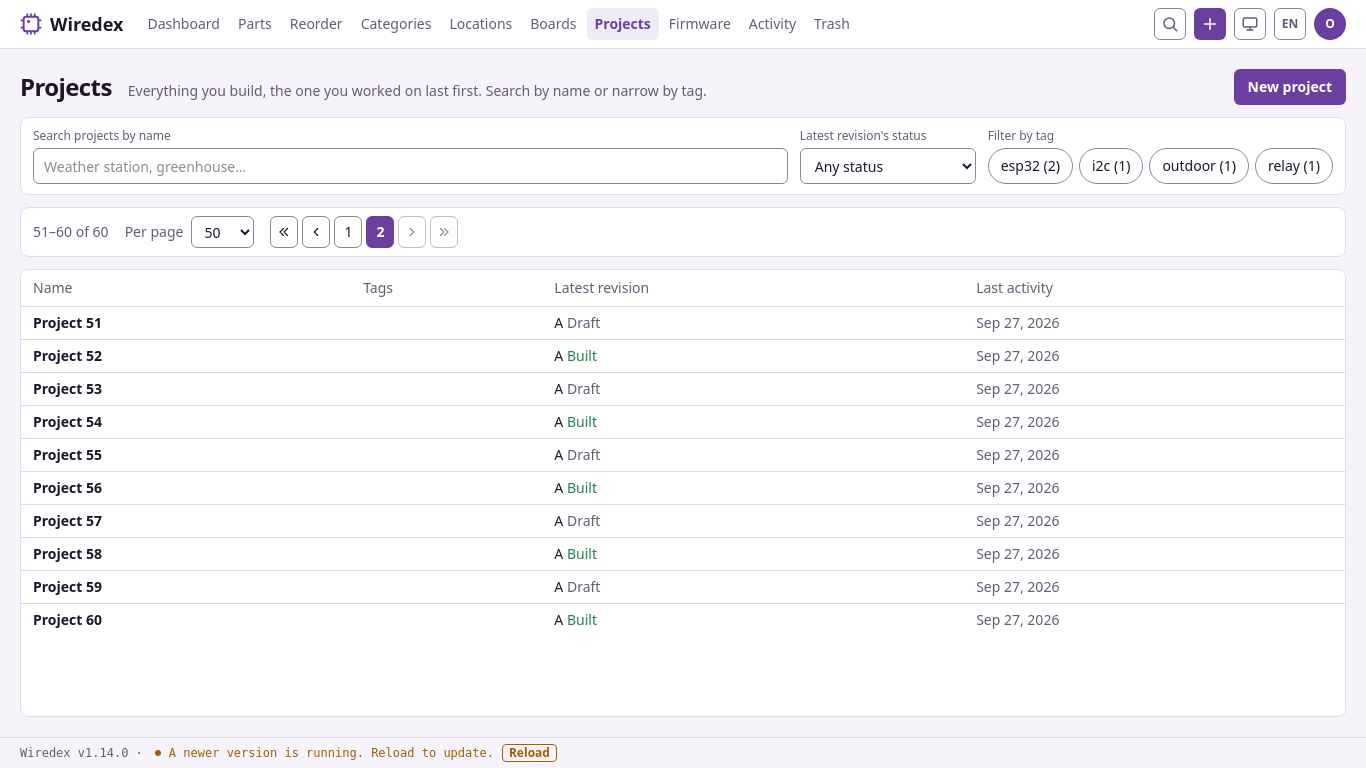
ProjectsPage › in pages › starts again at page 1 for a new search or status, at the size chosen
Type "Pro" into the search field labelled "Search projects by name" at [410, 166], box left=33, top=148, right=788, bottom=184
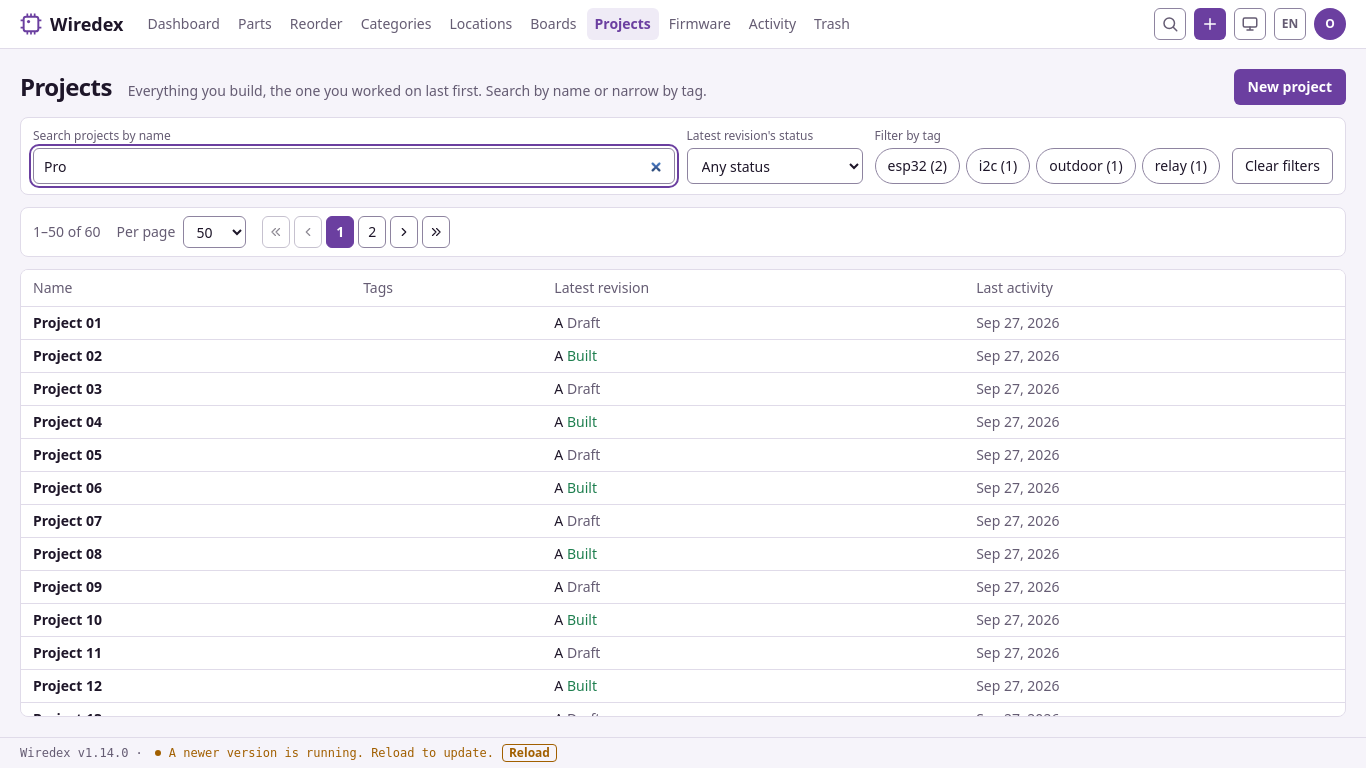
Click the button named "Page 2" at [372, 232], box left=358, top=216, right=386, bottom=248
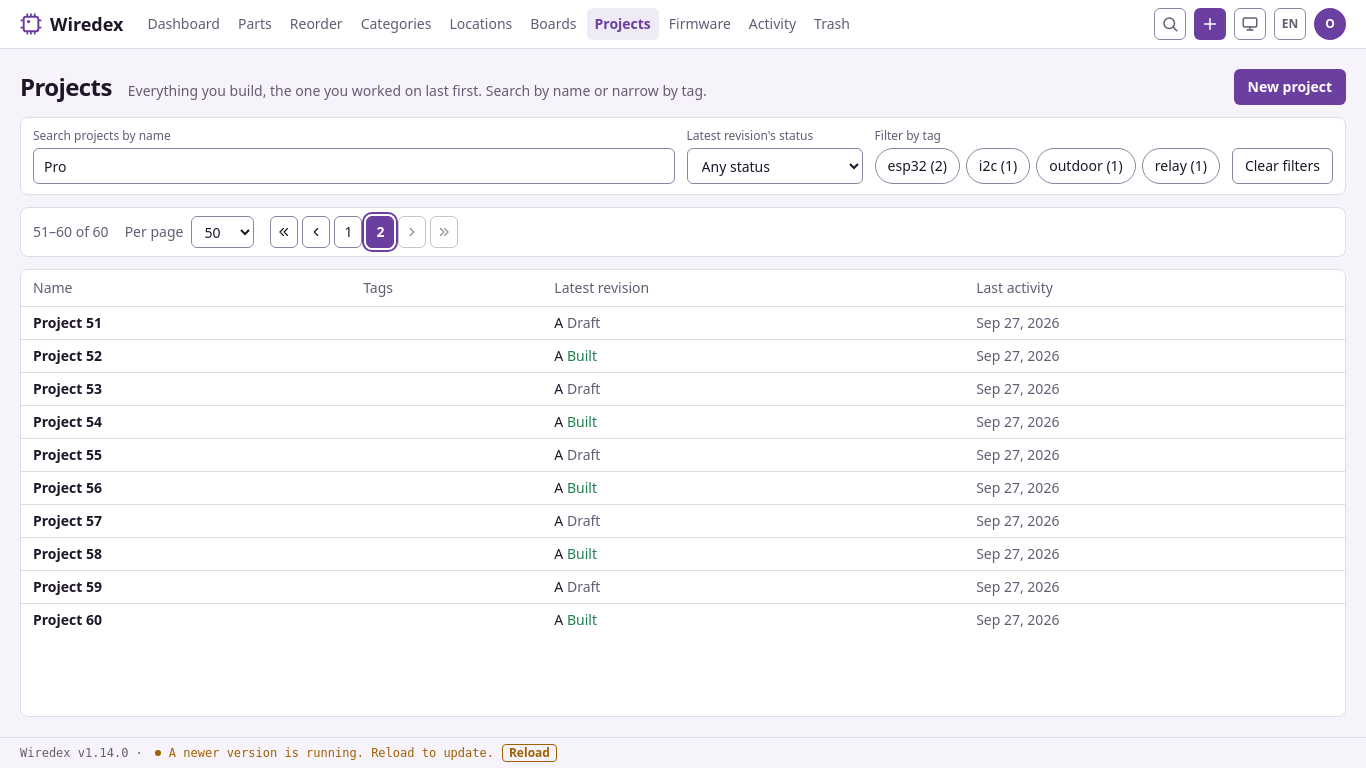
Select "Built" in the dropdown labelled "Latest revision's status" at [775, 166], box left=687, top=148, right=863, bottom=184
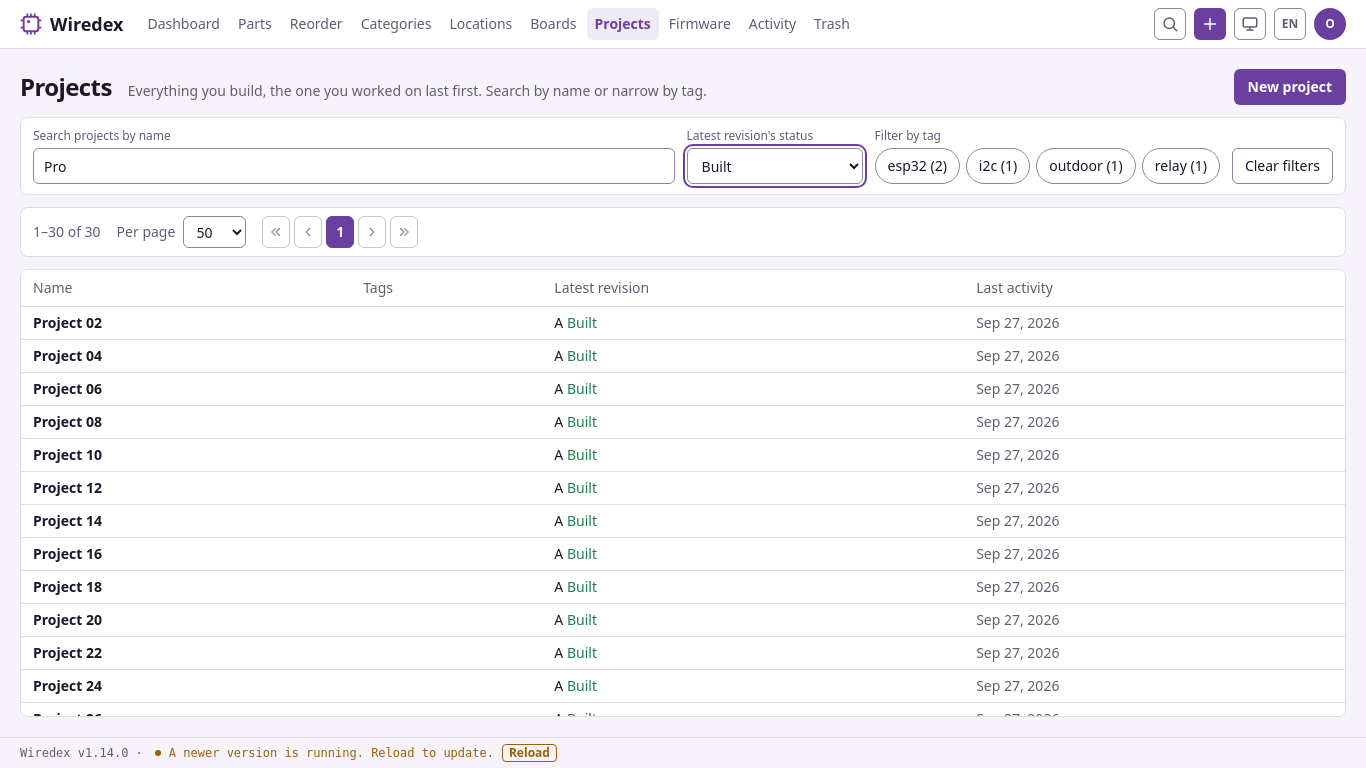
Now the text "1–30 of 30" is shown, box left=33, top=222, right=101, bottom=242
